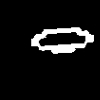chain: (31, 28, 93, 53)
